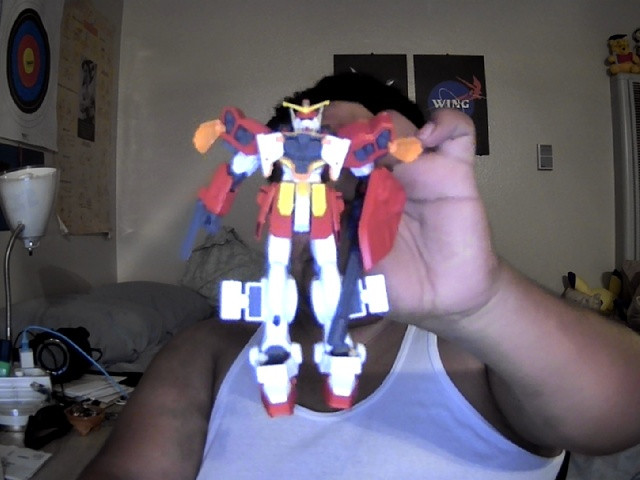Deatharms: (182, 97, 423, 420)
